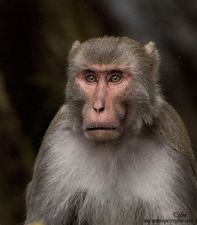monkey: (19, 12, 174, 204)
